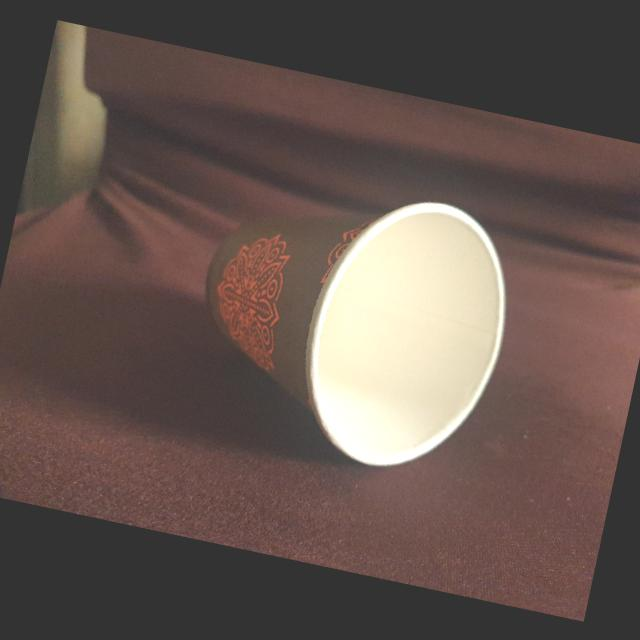trash: (167, 148, 532, 492)
